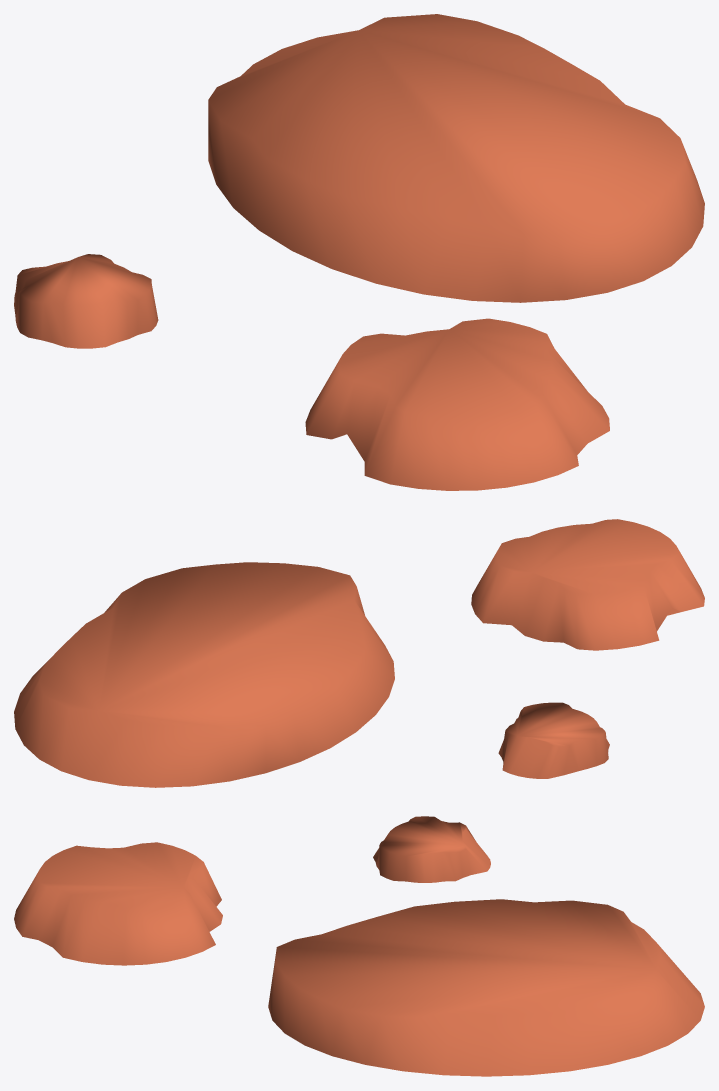
The model's file is камни1.fbx.
3 views of the same model, one above another, from view 1: azimuth 30°, elevation 25°; view 2: azimuth 150°, elevation 25°; view 3: azimuth 270°, elevation 25° (orthographic). The views are drawn at different scales.
Visible parts, largest first — view 1: Cylinder, Cylinder.001, Cylinder.002; view 2: Cylinder, Cylinder.001, Cylinder.002; view 3: Cylinder, Cylinder.001, Cylinder.002.
Part boxes in pixels (x1,y1,x2,y2): Cylinder: [208, 14, 704, 302]; Cylinder.001: [305, 318, 609, 490]; Cylinder.002: [14, 254, 158, 348]; Cylinder: [14, 562, 394, 787]; Cylinder.001: [471, 519, 704, 650]; Cylinder.002: [498, 702, 609, 778]; Cylinder: [268, 899, 704, 1076]; Cylinder.001: [14, 842, 222, 965]; Cylinder.002: [373, 816, 490, 882].
Size of the model in its own units: 259 by 23.25 by 316.
